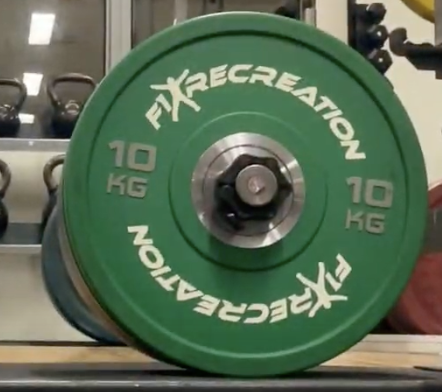barbell: (226, 157, 285, 211)
